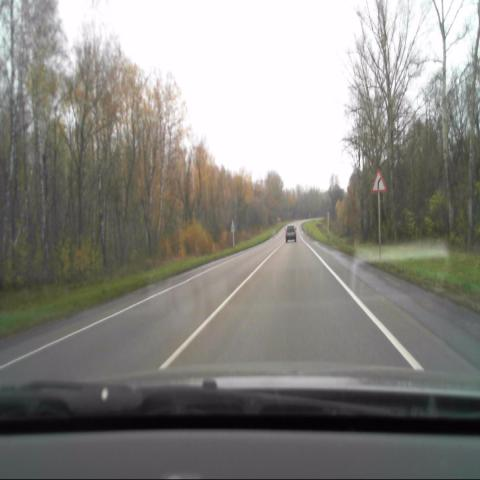1_11: (371, 169, 385, 194)
